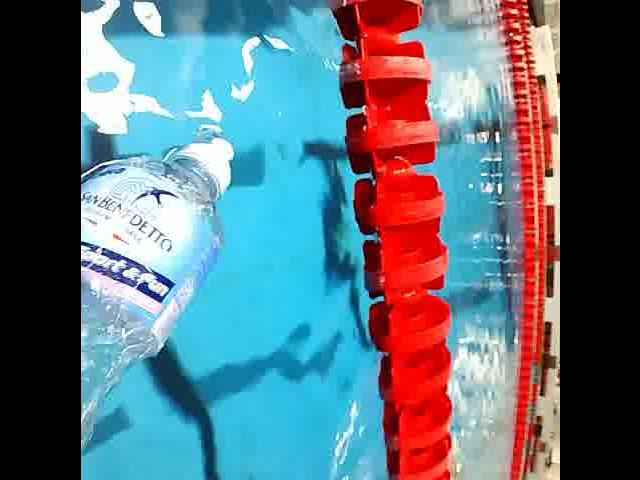Bottle: (80, 126, 239, 455)
